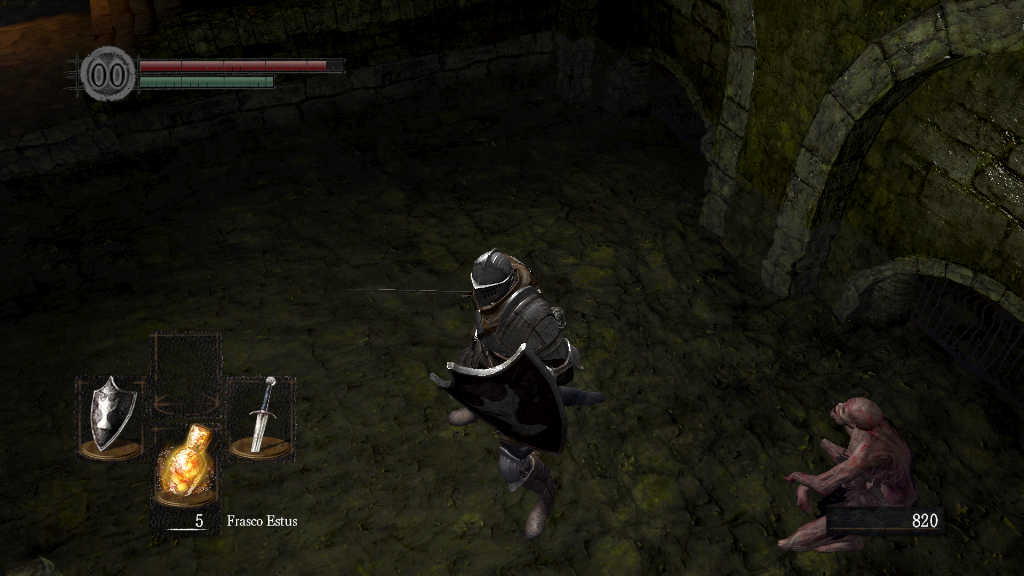health: (138, 58, 343, 71)
hollow: (779, 397, 918, 558)
humanity: (80, 45, 136, 102)
player: (345, 248, 607, 539)
souls: (825, 506, 945, 536)
stamina: (138, 74, 274, 88)
